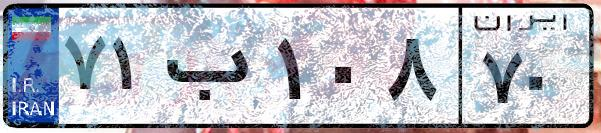0: (330, 28, 385, 110), (525, 38, 570, 115)
1: (270, 28, 330, 110), (110, 28, 158, 98)
7: (57, 26, 110, 100), (475, 38, 525, 113)
8: (385, 28, 445, 110)
ب: (158, 20, 270, 120)
